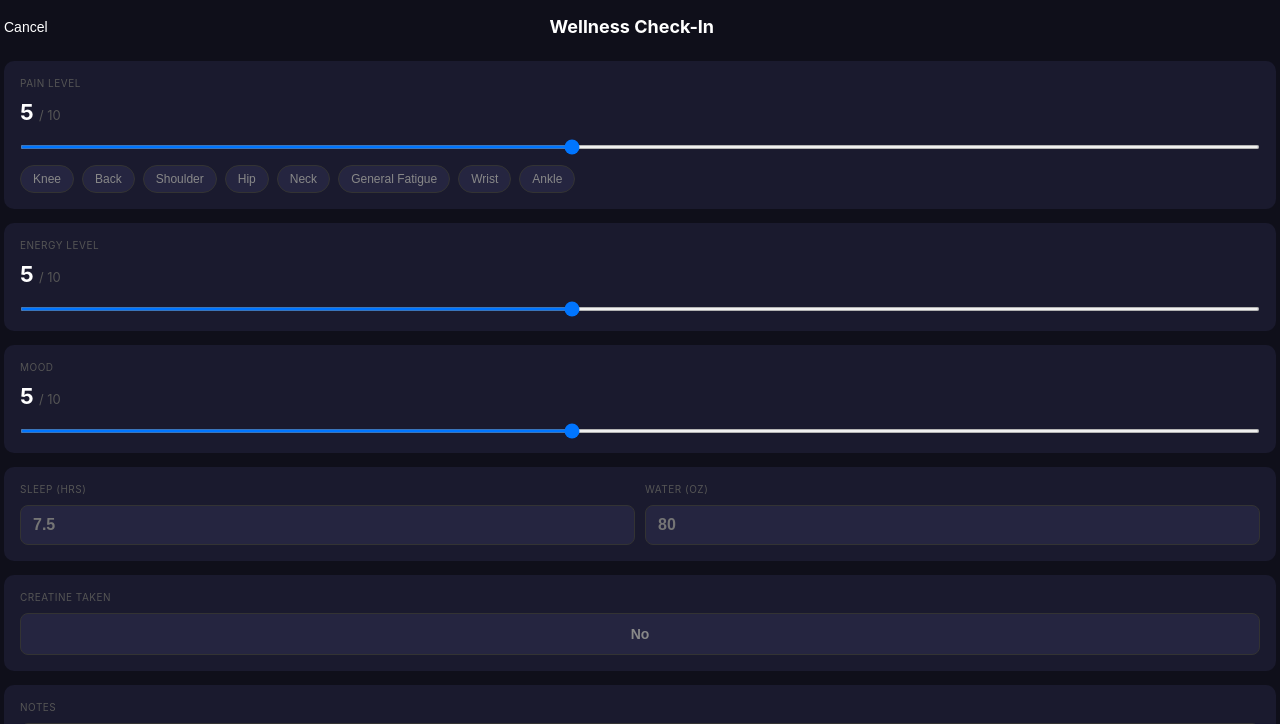
Test case: WellnessLogger › creatine toggle switches from "No" to "Yes — taken today"
The width and height of the screenshot is (1280, 724).
What coordinates should you click on to do the following:
click the button "No"
I would click on:
 (640, 634)
Its box is [20,613,1260,655].
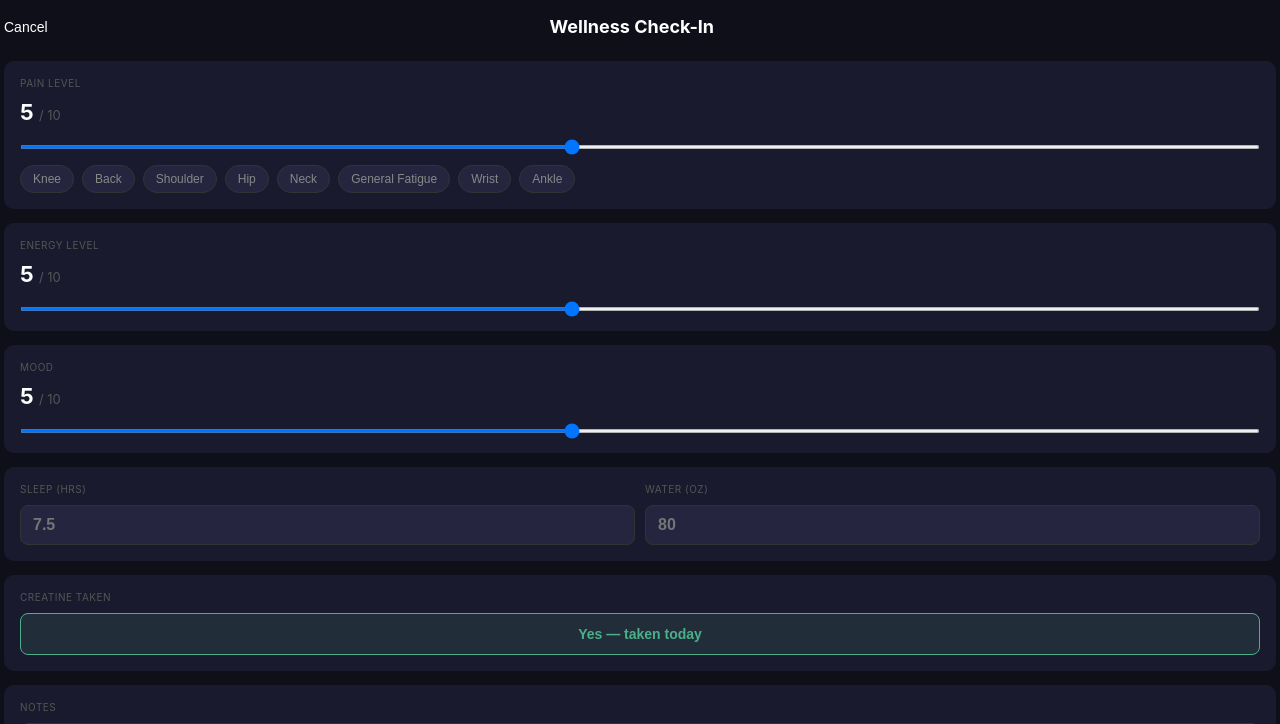
expect the button "Yes — taken today" is shown: met, box [20,613,1260,655]
